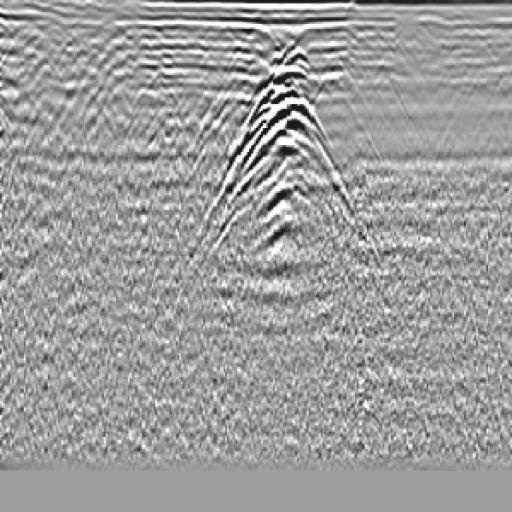metalic: (211, 51, 355, 275)
